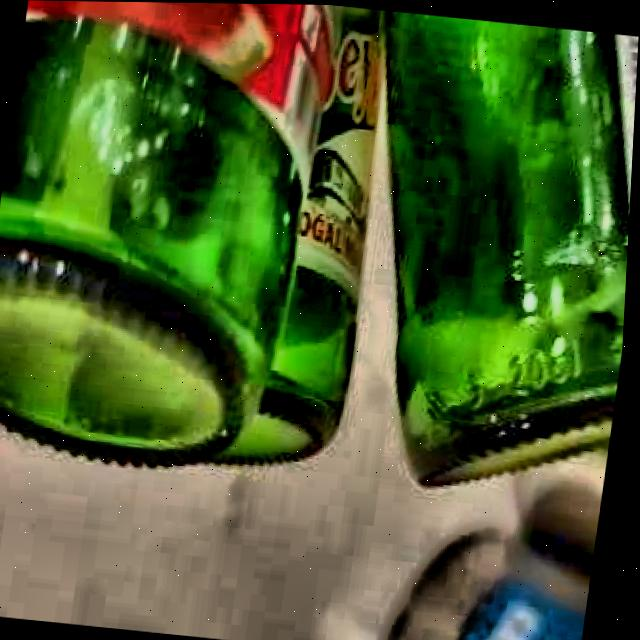glass: (0, 0, 639, 482)
